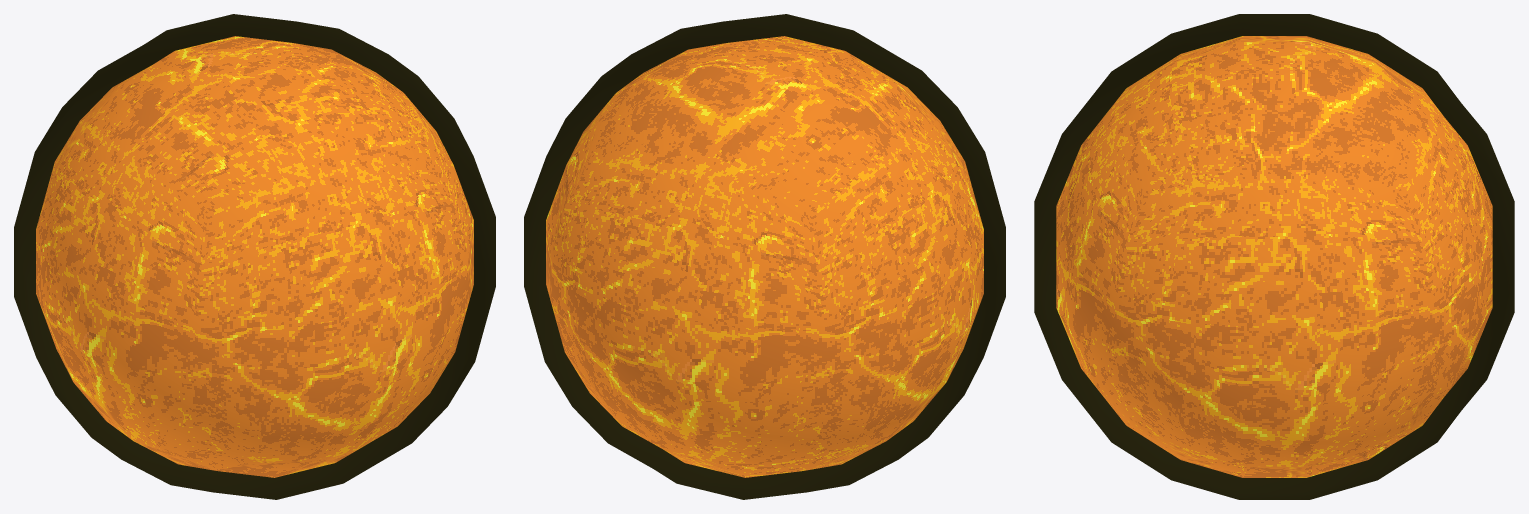
The model's file is pixel_planet_2.glb.
3 views of the same model, side by side, from view 1: azimuth 30°, elevation 25°; view 2: azimuth 150°, elevation 25°; view 3: azimuth 270°, elevation 25° (orthographic).
Parts seen in each view (by area): view 1: Object_2; view 2: Object_2; view 3: Object_2.
Boxes of the visible parts, x1,y1,x2,y2 form: Object_2: (14,14,495,499); Object_2: (524,14,1005,499); Object_2: (1034,14,1514,499).
Size of the model in its own units: 3.7 by 3.7 by 3.7.
1 material, 1 textured.
